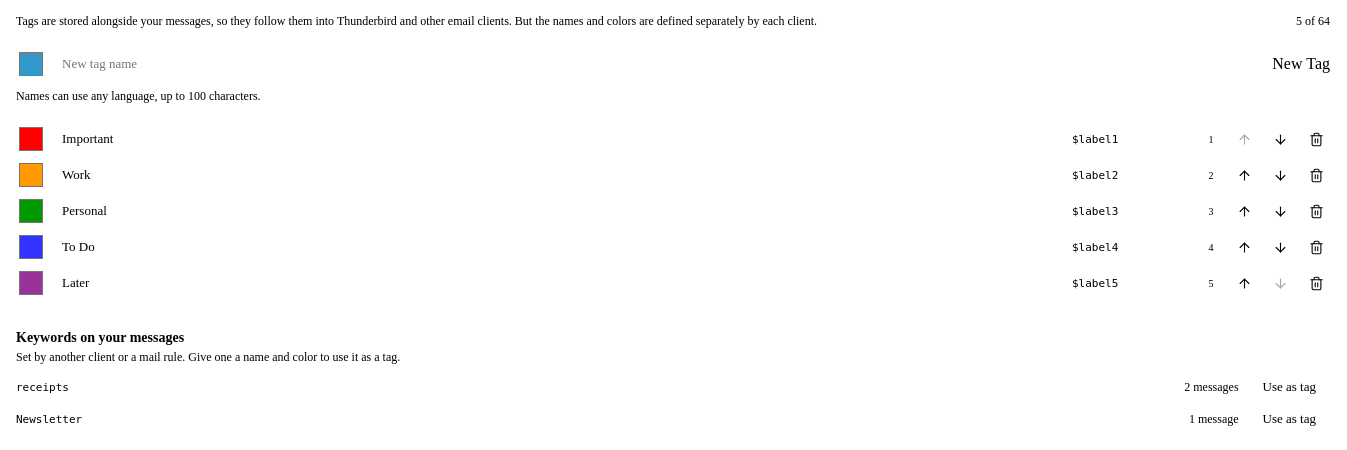
TagDefinitionsEditor › offers keywords found on messages that no tag names, and adopts one as-is
This screenshot has width=1347, height=450.
Check: the elements with class "tag-editor__keyword" read "receipts", "Newsletter", in this order, box top-left (16, 380), bottom-right (69, 394); top-left (16, 412), bottom-right (82, 426)
Click the button "Use as tag" in the row of "Newsletter": (1289, 419) top-left (1249, 405), bottom-right (1330, 433)
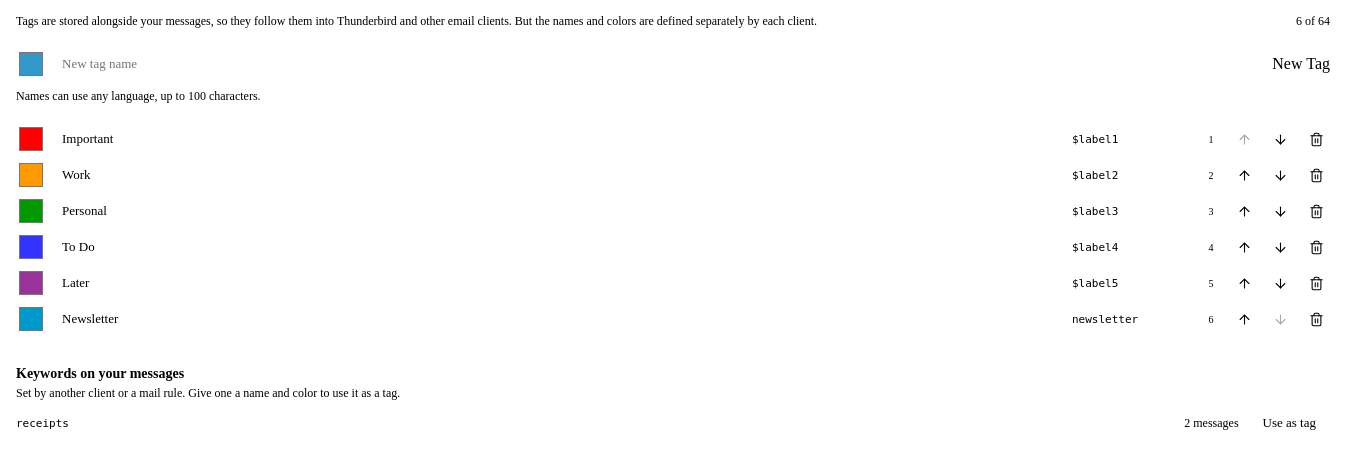
Check: the elements with class "tag-editor__keyword" read "receipts", in this order, box top-left (16, 416), bottom-right (69, 430)
